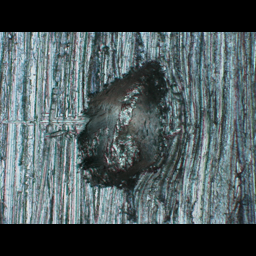d: (52, 55, 191, 198)
